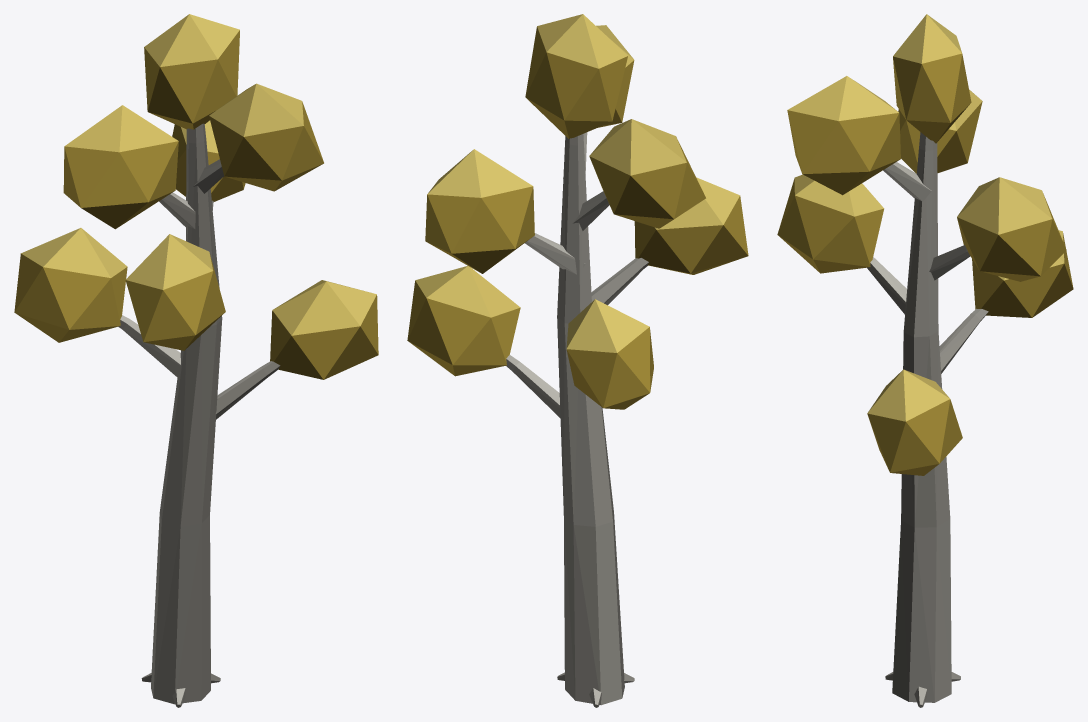
3 renders of one model, left to right at view 1: azimuth 30°, elevation 25°; view 2: azimuth 150°, elevation 25°; view 3: azimuth 270°, elevation 25°, orthographic.
Visible parts, largest first — view 1: WK_Tree_Birch_GoldenLean_LOD0_High; view 2: WK_Tree_Birch_GoldenLean_LOD0_High; view 3: WK_Tree_Birch_GoldenLean_LOD0_High.
Boxes of the visible parts, left/top/right/bottom form: WK_Tree_Birch_GoldenLean_LOD0_High: left=14, top=14, right=378, bottom=707; WK_Tree_Birch_GoldenLean_LOD0_High: left=407, top=14, right=748, bottom=707; WK_Tree_Birch_GoldenLean_LOD0_High: left=777, top=14, right=1073, bottom=707.
Size of the model in its own units: 3.27 by 7.05 by 2.77.
